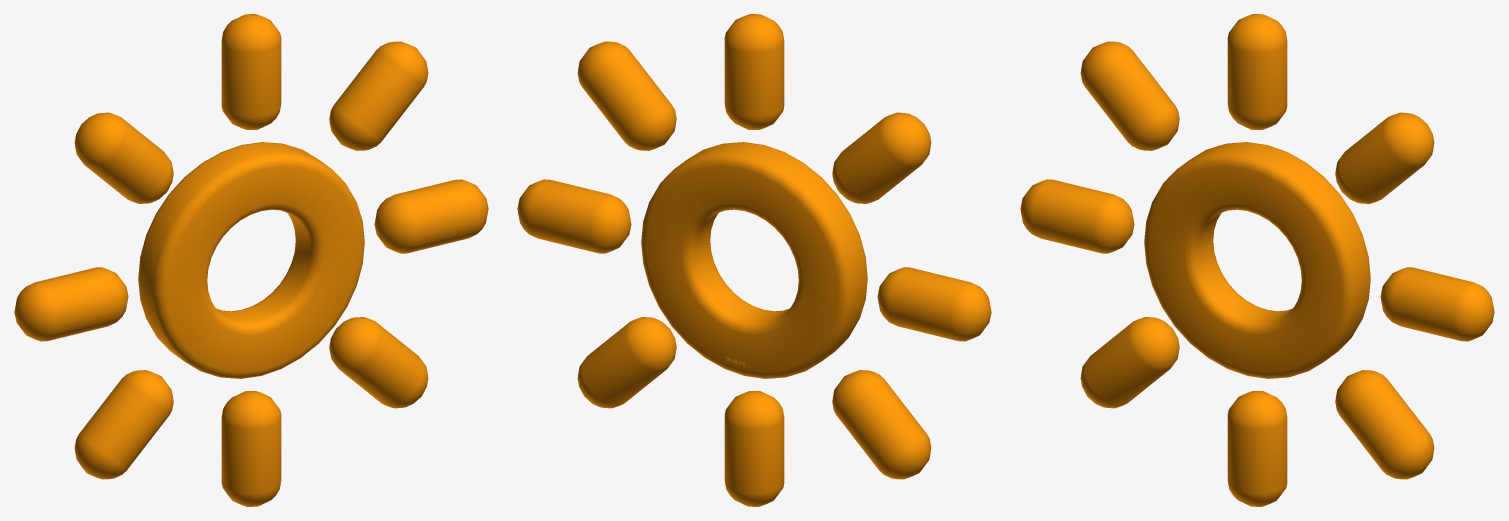
Rendered from bright_button.fbx.
The picture shows the model from 3 angles, left to right: view 1: azimuth 30°, elevation 25°; view 2: azimuth 150°, elevation 25°; view 3: azimuth 330°, elevation 25°; orthographic projection.
Visible parts, largest first — view 1: Circle.2633; view 2: Circle.2633; view 3: Circle.2633.
Boxes of the visible parts, x1,y1,x2,y2 form: Circle.2633: (14, 14, 488, 506); Circle.2633: (517, 14, 991, 506); Circle.2633: (1020, 14, 1494, 506).
Size of the model in its own units: 224 by 224 by 25.05.
Materials: 1 (1 with a texture image).
